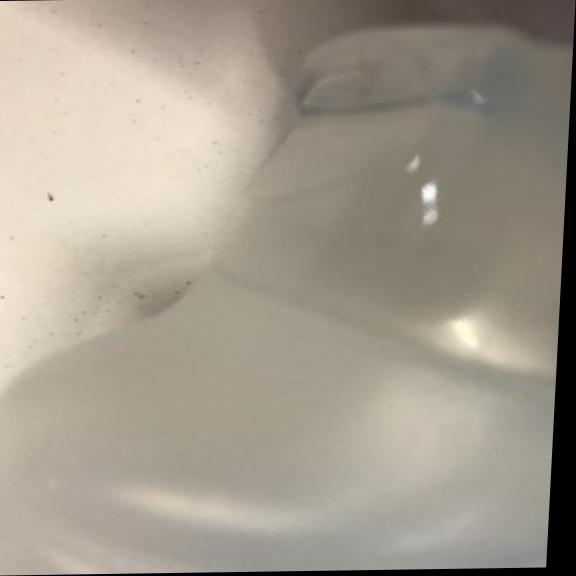Plastik: (0, 9, 574, 576)
